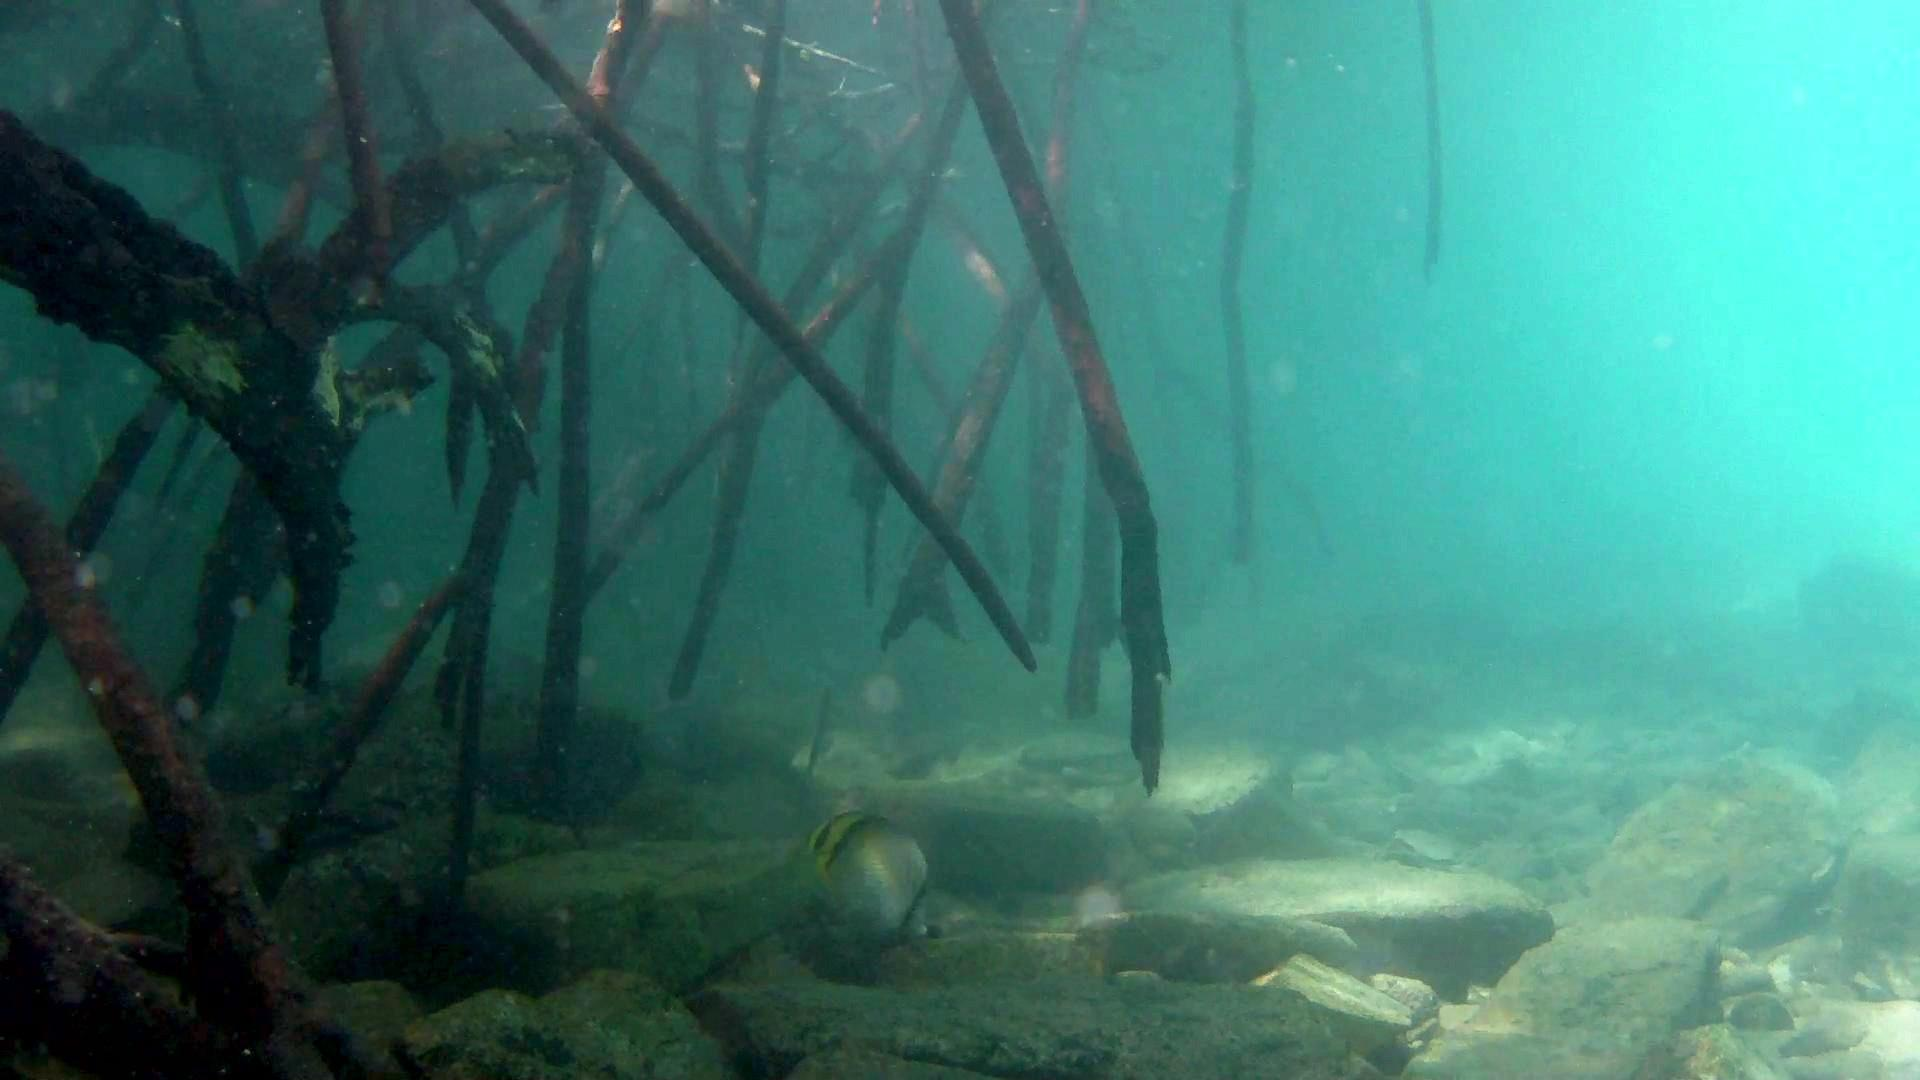chaetodon vagabundus: (802, 806, 935, 942)
